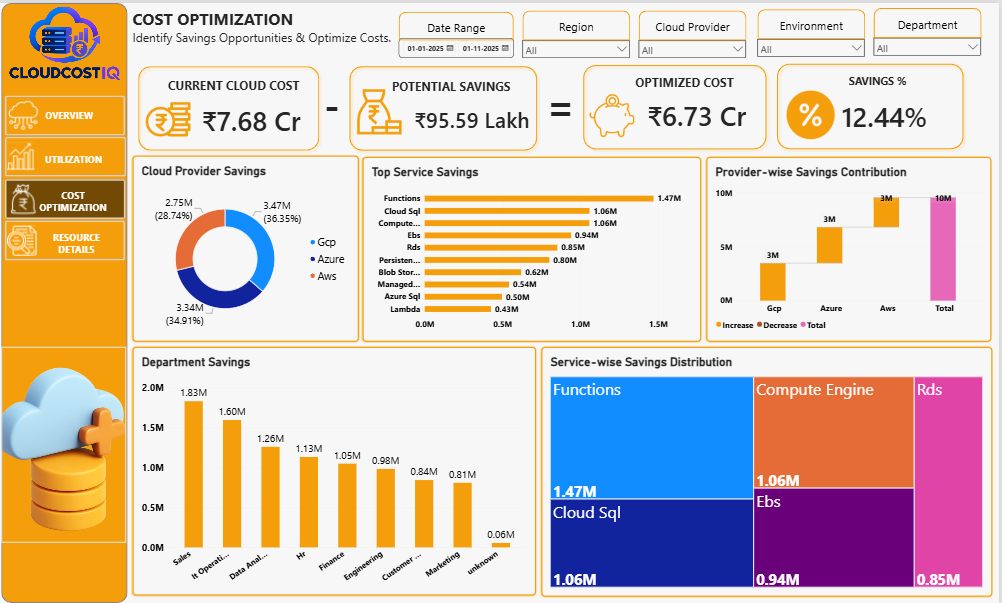

What the dashboard file says about the page in this screenshot:
{"tool":"powerbi","page":{"name":"cost optimization","canvas":[2000,1200],"ordinal":2},"visuals":[{"type":"shape","box":[2.5,0,252.5,1200],"z":0},{"type":"image","box":[2.5,687.5,250,392.5],"z":1000},{"type":"image","box":[3.6,7.2,253.4,157.4],"z":2000},{"type":"actionButton","title":"overview off","box":[10,185,240,80],"z":4000},{"type":"actionButton","title":"utilization off","box":[10.9,267.8,242.5,79.6],"z":6000},{"type":"actionButton","title":"cost on","box":[10.9,352.9,240.7,79.6],"z":7000},{"type":"actionButton","title":"resource off","box":[10,435,240,80],"z":10000},{"type":"textbox","box":[264.4,8.9,528.9,95.6],"z":11000},{"type":"shape","box":[268.6,118.6,380,186.7],"z":12000},{"type":"textbox","box":[335,147.5,265,55],"z":13000},{"type":"cardVisual","fields":{"Data":["cards.Total Cloud Cost Cr"]},"box":[386.6,192.5,240,84.4],"z":14000},{"type":"image","box":[284.8,187.9,102,90],"z":15000},{"type":"shape","box":[1157.2,115.4,384.4,186.7],"z":16000},{"type":"textbox","box":[1249.2,142.1,238,52],"z":17000},{"type":"cardVisual","fields":{"Data":["cards.Optimized Cost Cr"]},"box":[1262.9,179,262.5,87.5],"z":18000},{"type":"image","box":[1173.2,180.1,102,90],"z":19000},{"type":"shape","box":[1544.3,113.7,391.1,188.9],"z":20000},{"type":"textbox","box":[1575.9,140.8,360,52],"z":21000},{"type":"cardVisual","fields":{"Data":["formulas.Savings %"]},"box":[1662.1,182.6,212,86],"z":22000},{"type":"image","box":[1561.2,171.5,122.2,102.2],"z":23000},{"type":"shape","box":[689.2,116.3,393.3,186.7],"z":24000},{"type":"textbox","box":[722.5,150,360,37.5],"z":25000},{"type":"cardVisual","fields":{"Data":["cards.Potential Savings Lakh"]},"box":[811.4,189.6,271.1,86.7],"z":26000},{"type":"image","box":[706.7,172.1,102,90],"z":27000},{"type":"slicer","fields":{"Values":["Cloud_billing_data.Cloud_Provider"]},"box":[1273.5,69.5,224.4,40],"z":28000},{"type":"shape","box":[1277.9,14,215.6,60],"z":29000},{"type":"slicer","fields":{"Values":["Cloud_billing_data.Environment"]},"box":[1511,67.1,224.4,40],"z":30000},{"type":"shape","box":[1515.5,11.5,215.6,60],"z":31000},{"type":"slicer","fields":{"Values":["Cloud_billing_data.Department"]},"box":[1742.5,65.2,224.4,40],"z":32000},{"type":"shape","box":[1747,9.7,215.6,60],"z":33000},{"type":"slicer","fields":{"Values":["Cloud_billing_data.Region"]},"box":[1040,70,225,40],"z":34000},{"type":"textbox","box":[605,147.5,117.5,115],"z":35000},{"type":"shape","box":[1044.4,15.6,215.6,60],"z":36000},{"type":"textbox","box":[1062.5,150,117.5,115],"z":37000},{"type":"donutChart","title":"Cloud Provider Savings","fields":{"Category":["Cloud_billing_data.Cloud_Provider"],"Y":["formulas.Potential Savings"]},"box":[265,305,452.5,372.5],"z":38000},{"type":"barChart","title":"Top Service Savings","fields":{"Category":["Cloud_billing_data.Service_Name"],"Y":["formulas.Potential Savings"]},"box":[725,307.5,677.5,370],"z":39000},{"type":"columnChart","title":"Department Savings","fields":{"Category":["Cloud_billing_data.Department"],"Y":["formulas.Potential Savings"]},"box":[265,687.5,807.5,497.5],"z":40000},{"type":"waterfallChart","title":"Provider-wise Savings Contribution","fields":{"Category":["Cloud_billing_data.Cloud_Provider"],"Y":["formulas.Potential Savings"]},"box":[1412.5,307.5,570,370],"z":41000},{"type":"treemap","title":"Service-wise Savings Distribution","fields":{"Group":["Cloud_billing_data.Service_Name"],"Values":["formulas.Potential Savings"]},"box":[1082.5,687.5,902.5,500],"z":42000},{"type":"slicer","fields":{"Values":["Cloud_billing_data.Billing_Date"]},"box":[797.5,70,230,40],"z":42001},{"type":"shape","box":[797.5,17.5,230,57.5],"z":42002}]}

Visuals, with their boxes in screenshot pixels (x1, y1, x2, y2), scaled from the page's 2000x1200 canvas onto the 1002x603 screenshot:
shape: 1:0:128:602
image: 1:345:127:543
image: 2:4:129:83
"overview off" actionButton: 5:93:125:133
"utilization off" actionButton: 5:135:127:175
"cost on" actionButton: 5:177:126:217
"resource off" actionButton: 5:219:125:259
textbox: 132:4:397:53
shape: 135:60:325:153
textbox: 168:74:301:102
cardVisual - cards.Total Cloud Cost Cr: 194:97:314:139
image: 143:94:194:140
shape: 580:58:772:152
textbox: 626:71:745:98
cardVisual - cards.Optimized Cost Cr: 633:90:764:134
image: 588:91:639:136
shape: 774:57:970:152
textbox: 790:71:970:97
cardVisual - formulas.Savings %: 833:92:939:135
image: 782:86:843:138
shape: 345:58:542:152
textbox: 362:75:542:94
cardVisual - cards.Potential Savings Lakh: 407:95:542:139
image: 354:86:405:132
slicer - Cloud_billing_data.Cloud_Provider: 638:35:750:55
shape: 640:7:748:37
slicer - Cloud_billing_data.Environment: 757:34:869:54
shape: 759:6:867:36
slicer - Cloud_billing_data.Department: 873:33:985:53
shape: 875:5:983:35
slicer - Cloud_billing_data.Region: 521:35:634:55
textbox: 303:74:362:132
shape: 523:8:631:38
textbox: 532:75:591:133
"Cloud Provider Savings" donutChart: 133:153:359:340
"Top Service Savings" barChart: 363:155:703:340
"Department Savings" columnChart: 133:345:537:595
"Provider-wise Savings Contribution" waterfallChart: 708:155:993:340
"Service-wise Savings Distribution" treemap: 542:345:994:597
slicer - Cloud_billing_data.Billing_Date: 400:35:515:55
shape: 400:9:515:38
